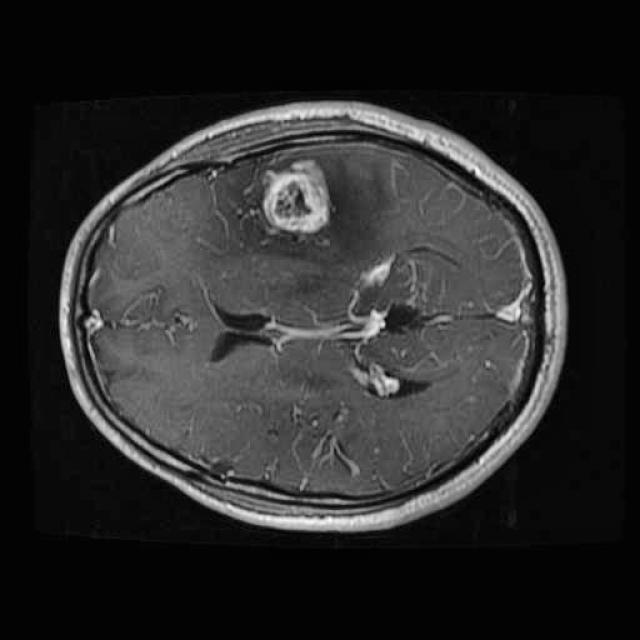Tumor: (248, 139, 342, 240)
